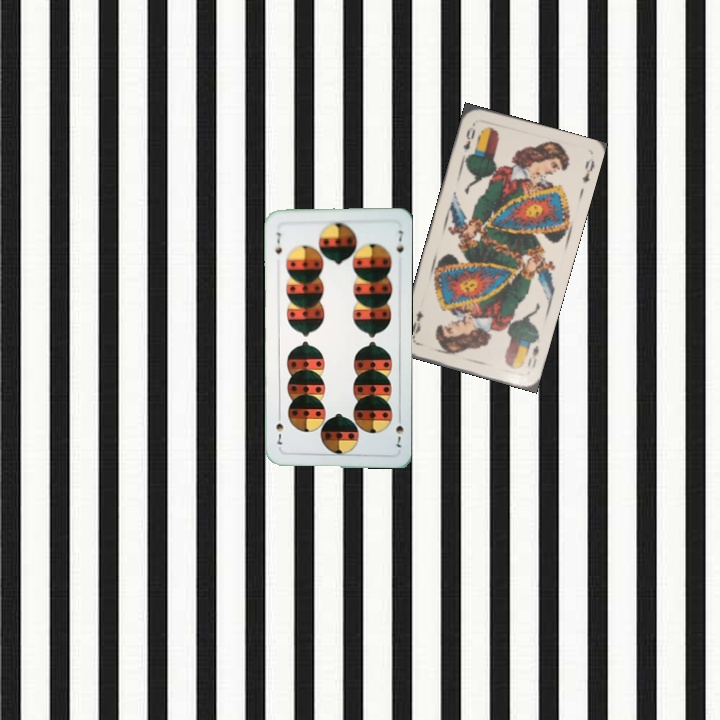EO: (459, 120, 478, 161), (523, 341, 542, 370)
S7: (392, 411, 406, 450), (271, 228, 284, 257)
